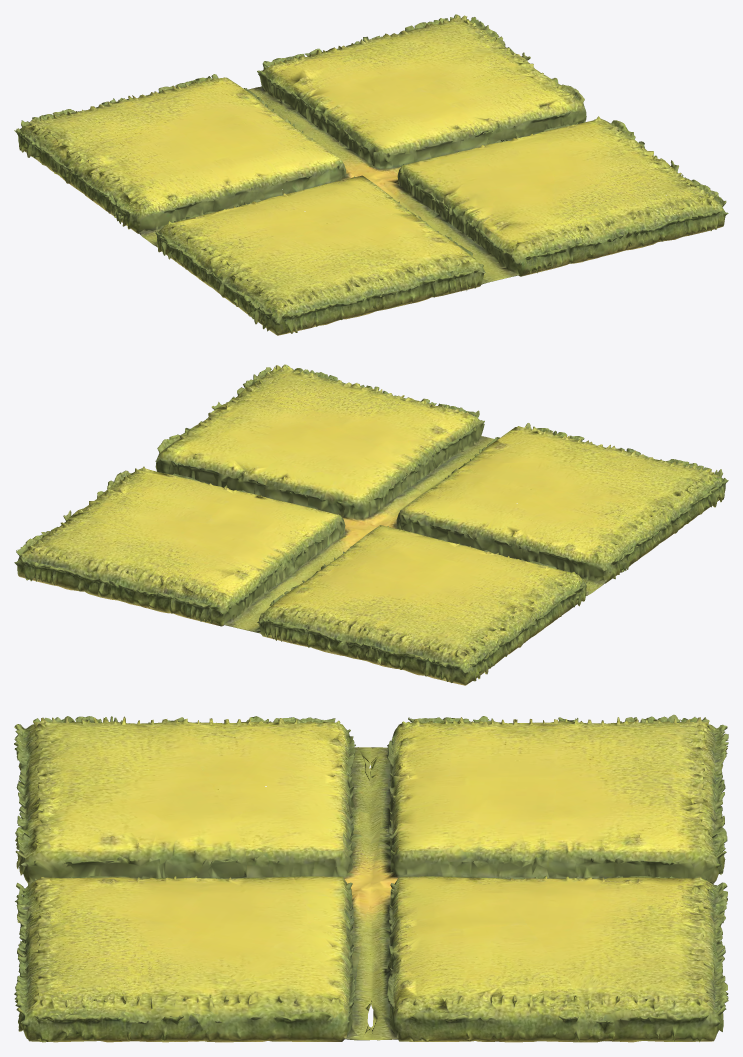
File: farm-field.glb
3 renders of one model, top to bottom at view 1: azimuth 30°, elevation 25°; view 2: azimuth 150°, elevation 25°; view 3: azimuth 270°, elevation 25°, orthographic. The views are drawn at different scales.
Visible parts, largest first — view 1: tripo_node_9d572cab-bd8e-4072-9ff2-84c1e96883a6; view 2: tripo_node_9d572cab-bd8e-4072-9ff2-84c1e96883a6; view 3: tripo_node_9d572cab-bd8e-4072-9ff2-84c1e96883a6.
Part boxes in pixels (box(x1,y1,x2,y2)): tripo_node_9d572cab-bd8e-4072-9ff2-84c1e96883a6: box(14, 14, 728, 335); tripo_node_9d572cab-bd8e-4072-9ff2-84c1e96883a6: box(14, 364, 728, 685); tripo_node_9d572cab-bd8e-4072-9ff2-84c1e96883a6: box(14, 714, 728, 1042).
Bounding box in the file's own units: 0.9989 × 0.07 × 0.999.
Materials: 1 (1 with a texture image).
